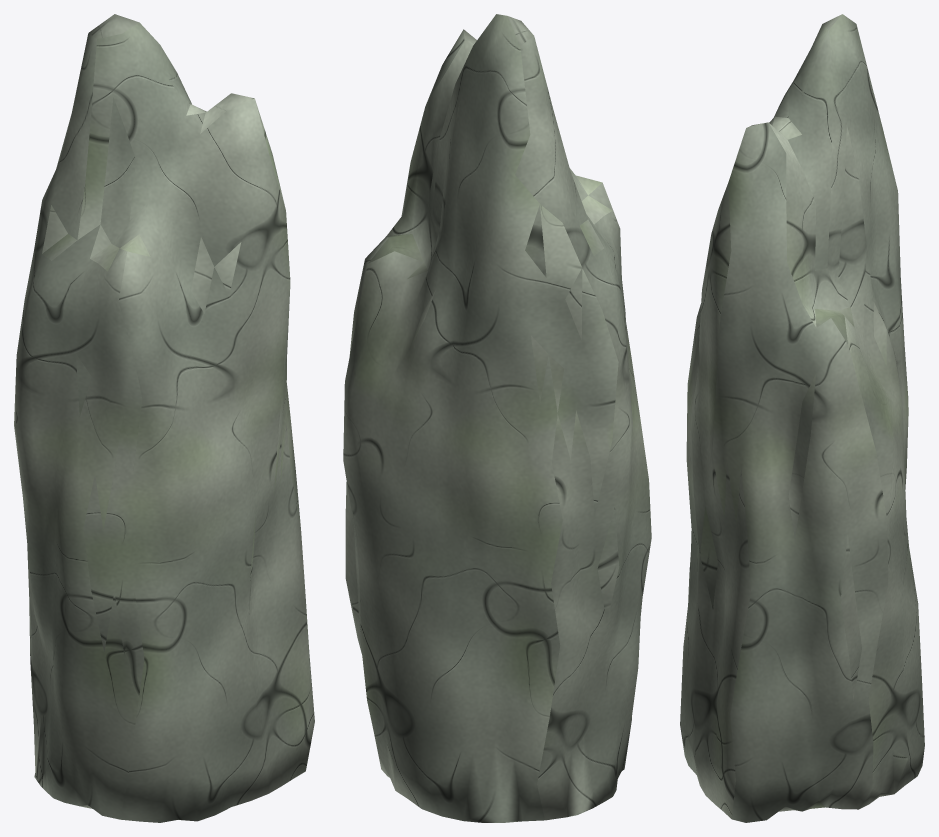
File: cliff_col_b.glb
3 renders of one model, left to right at view 1: azimuth 30°, elevation 25°; view 2: azimuth 150°, elevation 25°; view 3: azimuth 270°, elevation 25°, orthographic. The views are drawn at different scales.
Parts seen in each view (by area): view 1: cliff_col_b; view 2: cliff_col_b; view 3: cliff_col_b.
Boxes of the visible parts, x1,y1,x2,y2 form: cliff_col_b: (14, 14, 314, 822); cliff_col_b: (343, 14, 651, 822); cliff_col_b: (680, 14, 924, 822).
Size of the model in its own units: 1.2 by 3.22 by 0.9658.
1 material, 1 textured.
